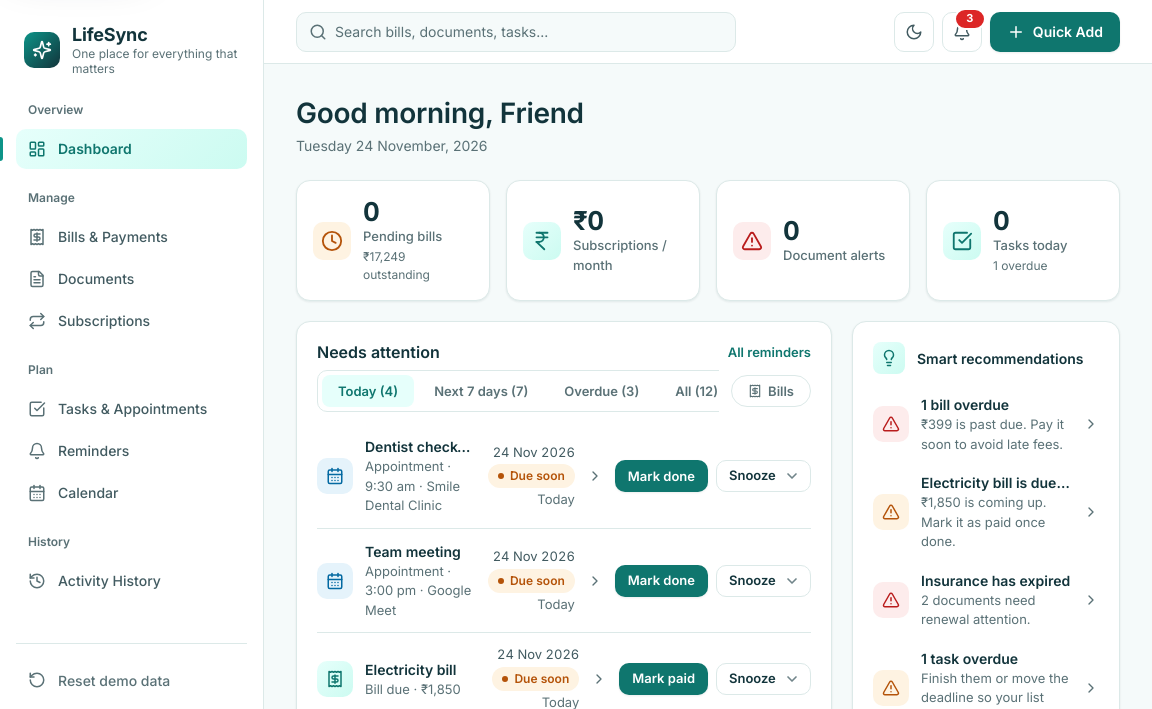
Scenario: Quick Add › opens as a labelled dialog with focus inside, and today as the default date
The width and height of the screenshot is (1152, 709).
Click the button "Quick Add" at (1055, 32), box [990,12,1120,52]
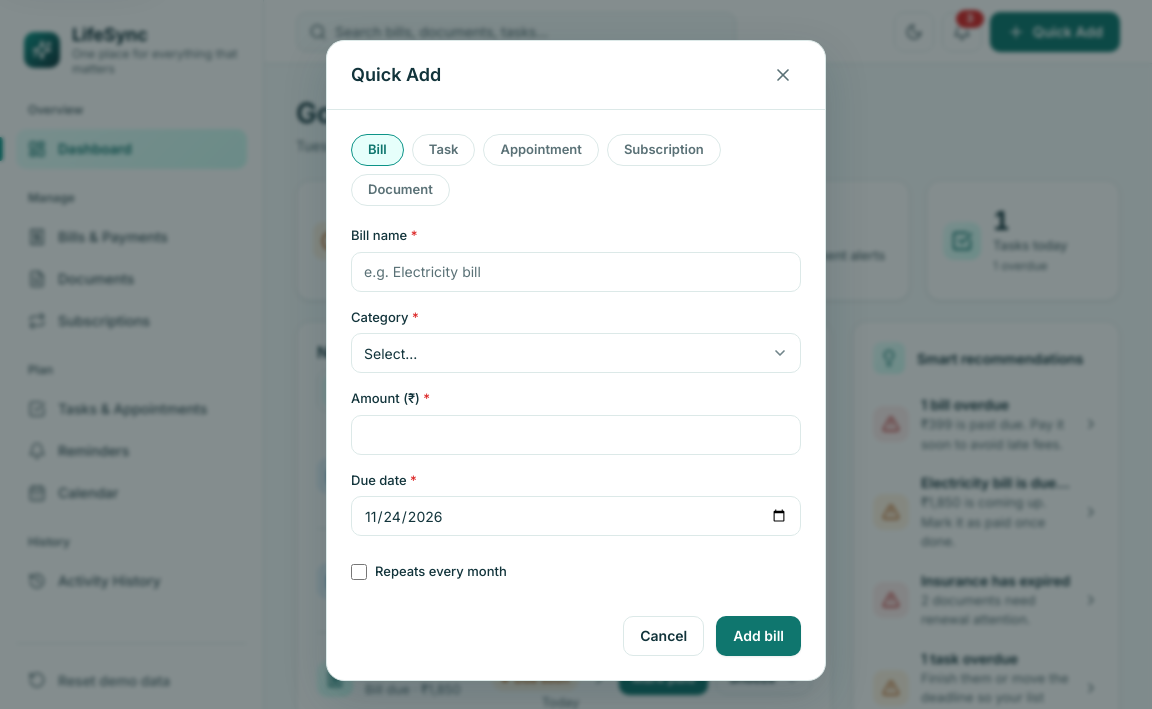
Expected: the date field labelled "Due date *" holds "2026-11-24", [351,496,801,536]
Expected: the button "Add bill" is shown, [716,616,801,656]
